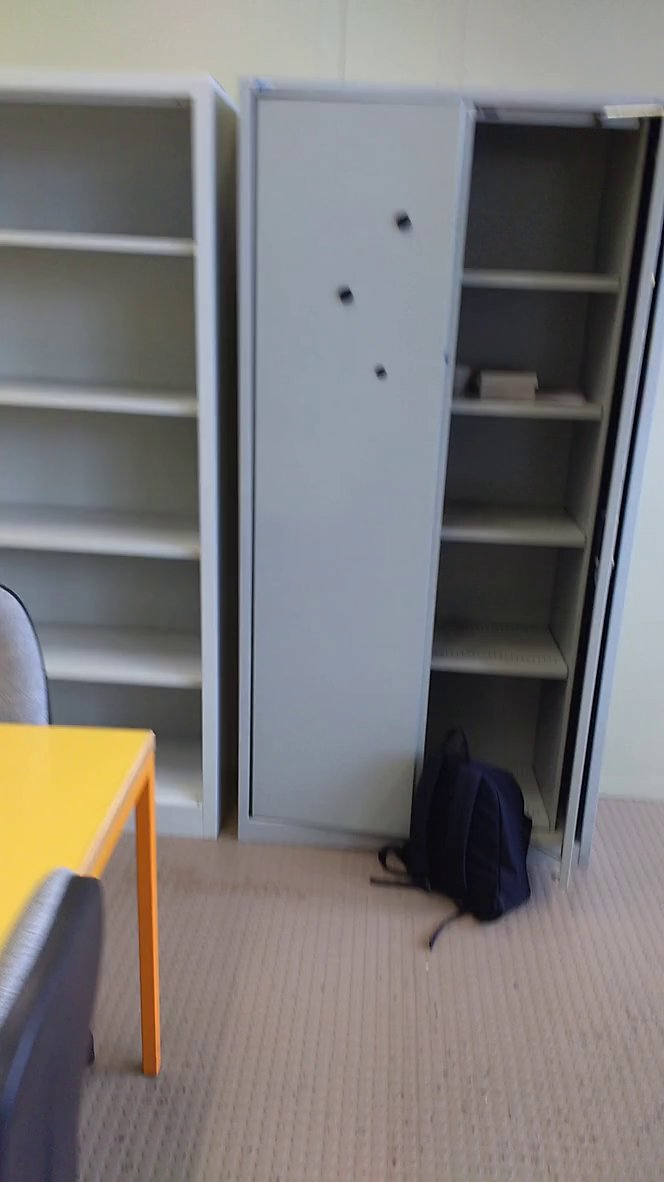bag: (374, 716, 541, 941)
